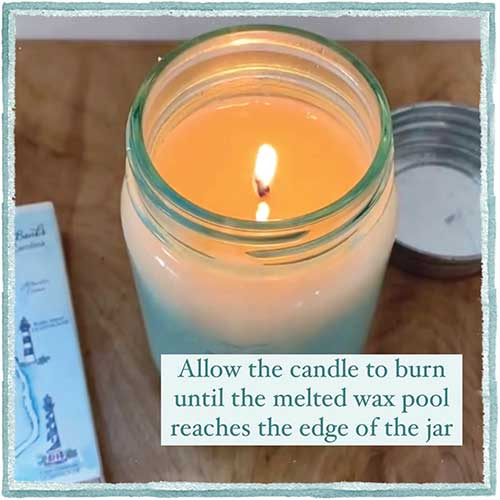Open-Flame-Hazard: (106, 12, 418, 354)
